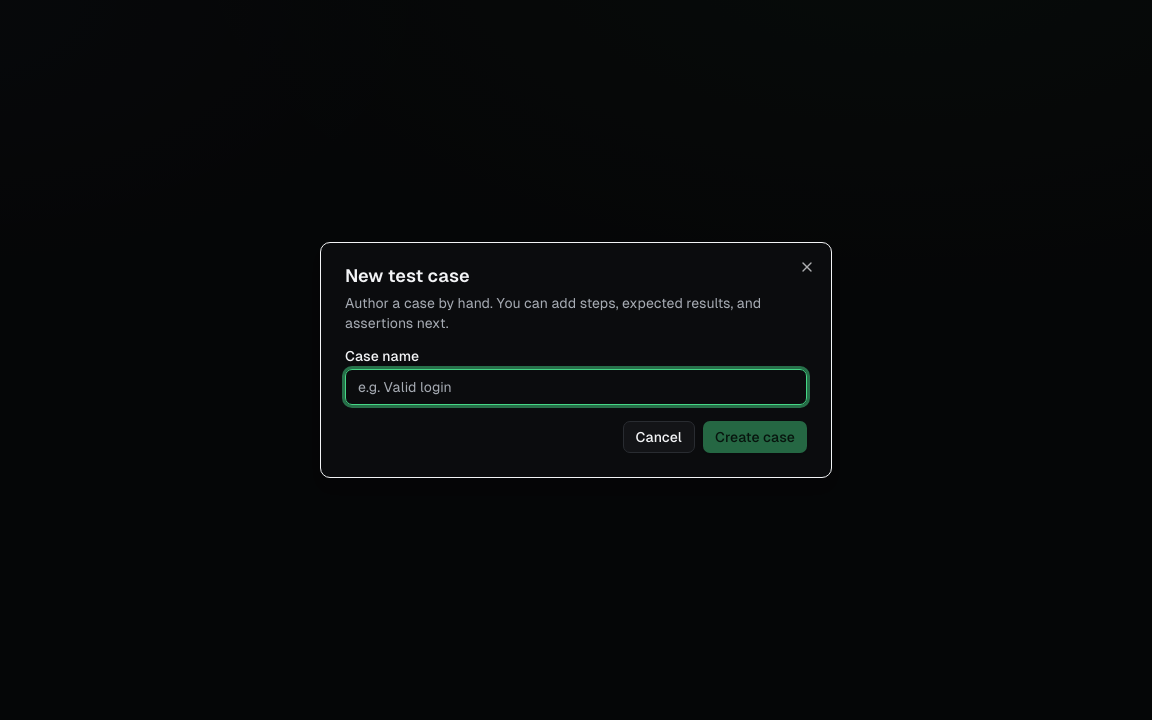
Test: CreateCaseDialog › enables submit for a single suite that arrives after the dialog mounted
Type "Valid login" into the field with test id "create-case-name".
click(576, 387); type("Valid login")  # box [345,369,807,405]
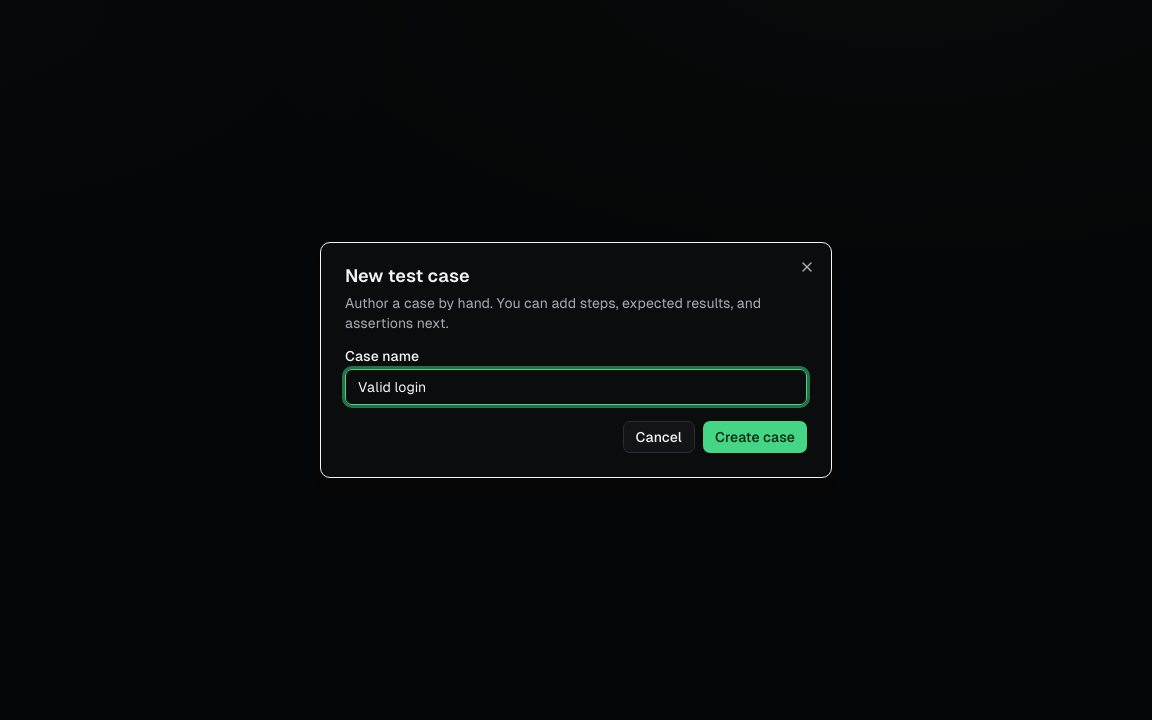
expect the button with test id "create-case-submit" is enabled: met, box [703,421,807,453]
